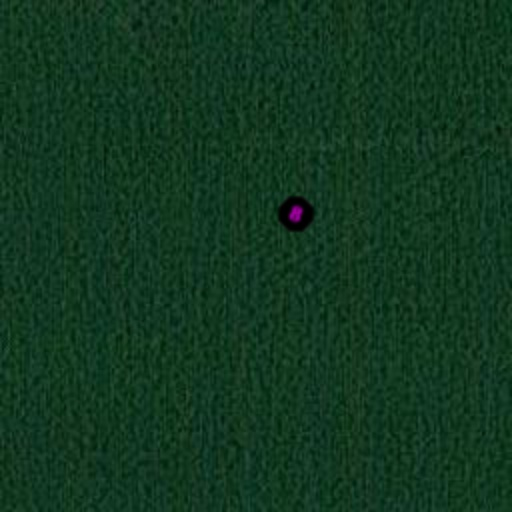octagon: (270, 188, 322, 240)
